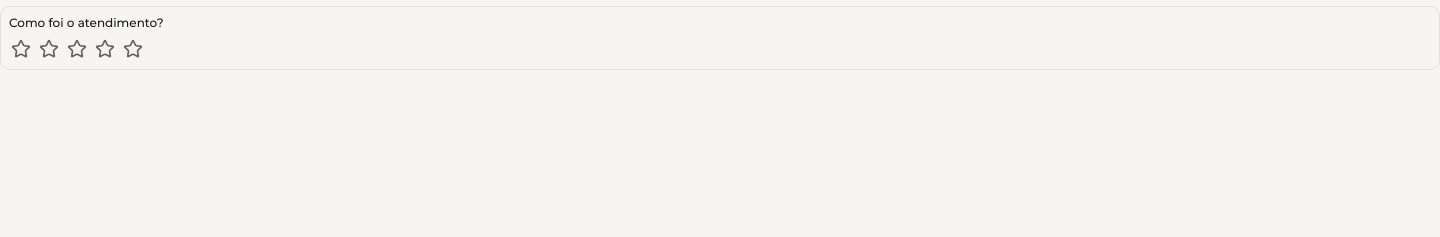
Test: AvaliarAtendimento › a recusa do banco aparece na tela
Click the radio button named "5 de 5" at (133, 49), box [121,37,145,61]
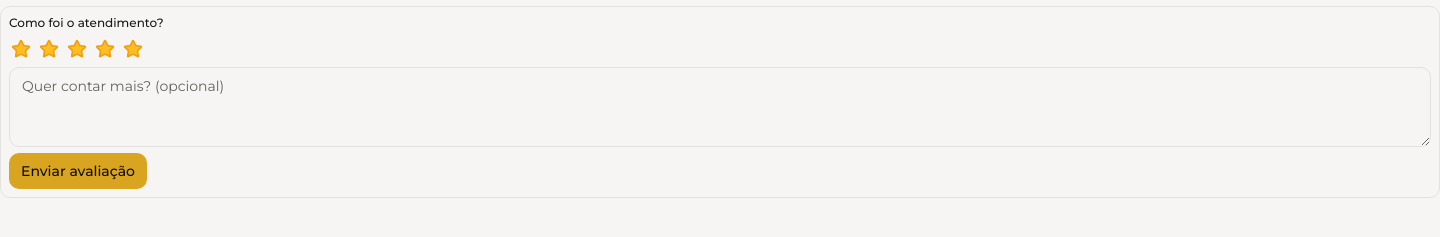
Click the button "Enviar avaliação" at (78, 171), box [9,153,147,189]
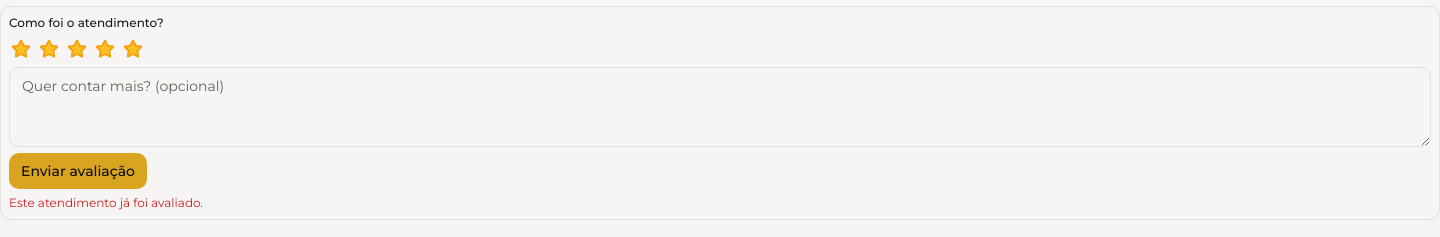
expect the message reads "Este atendimento já foi avaliado.": met, box [9,195,203,210]
